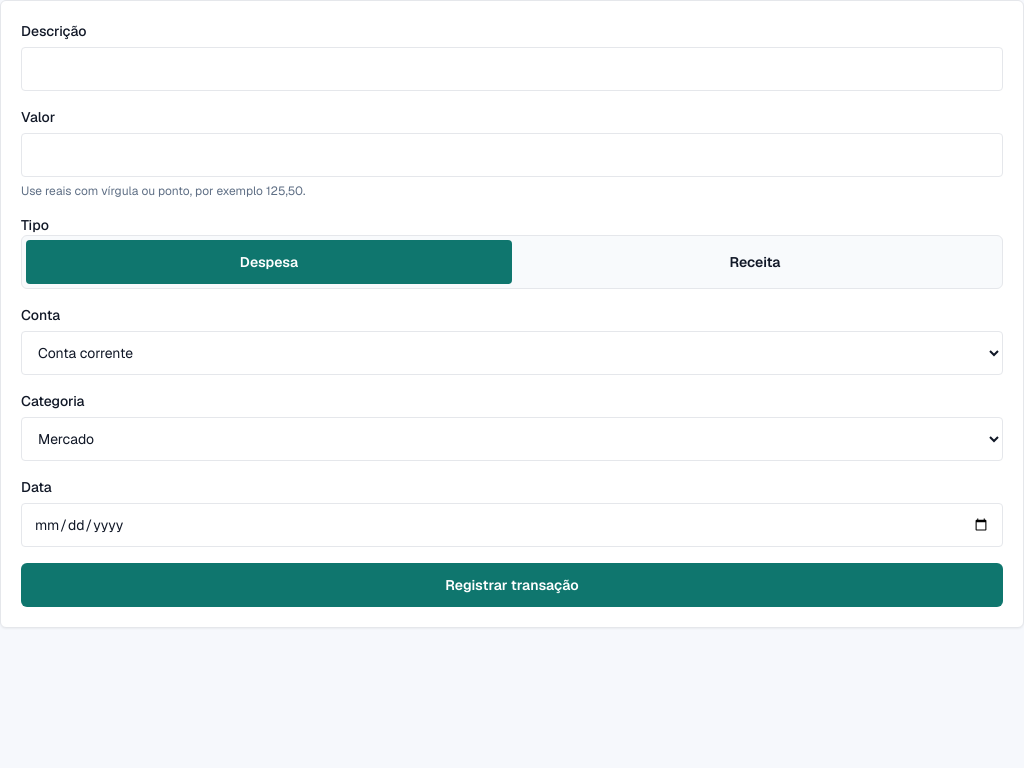
it: TransactionForm › shows an error state when creation fails
The image size is (1024, 768).
Type "Mercado" into the field labelled "Descrição" at (512, 69), box [21,47,1003,91]
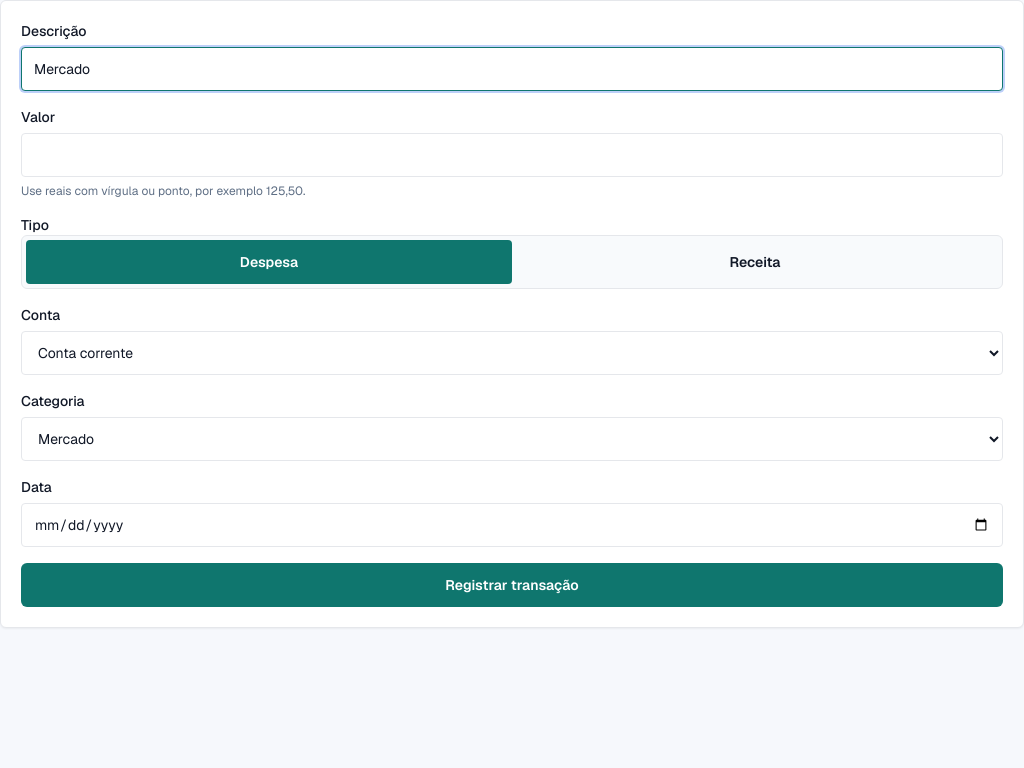
Type "125,50" into the field labelled "Valor" at (512, 155), box [21,133,1003,177]
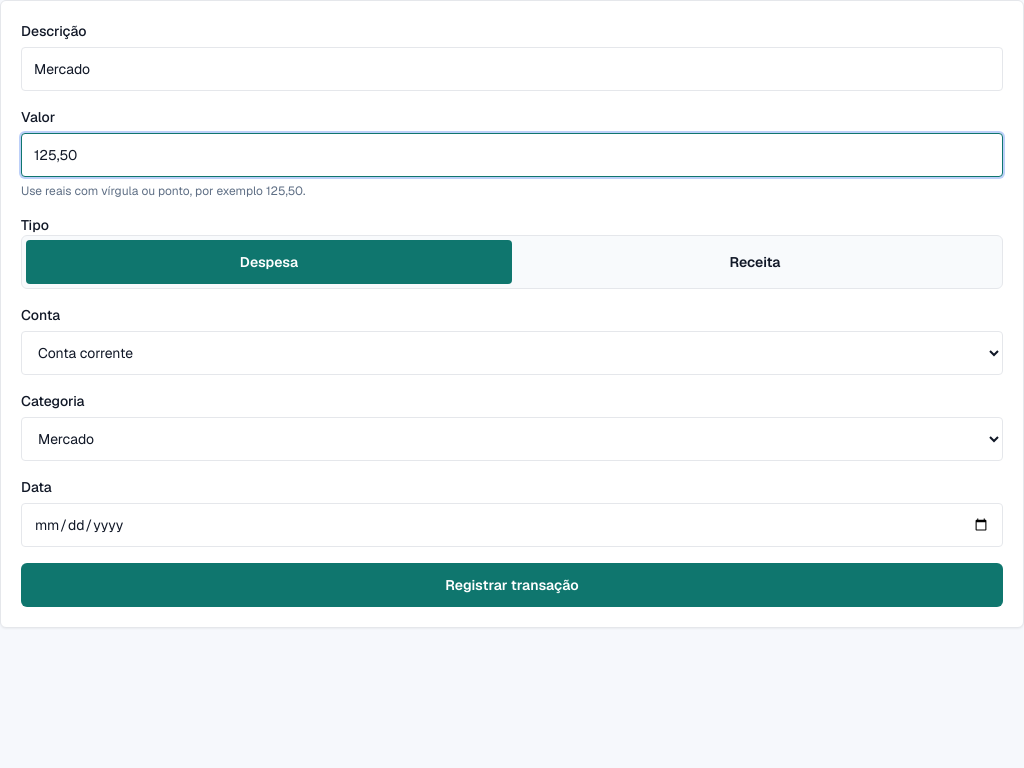
Type "2026-07-08" into the date field labelled "Data" at (512, 525), box [21,503,1003,547]
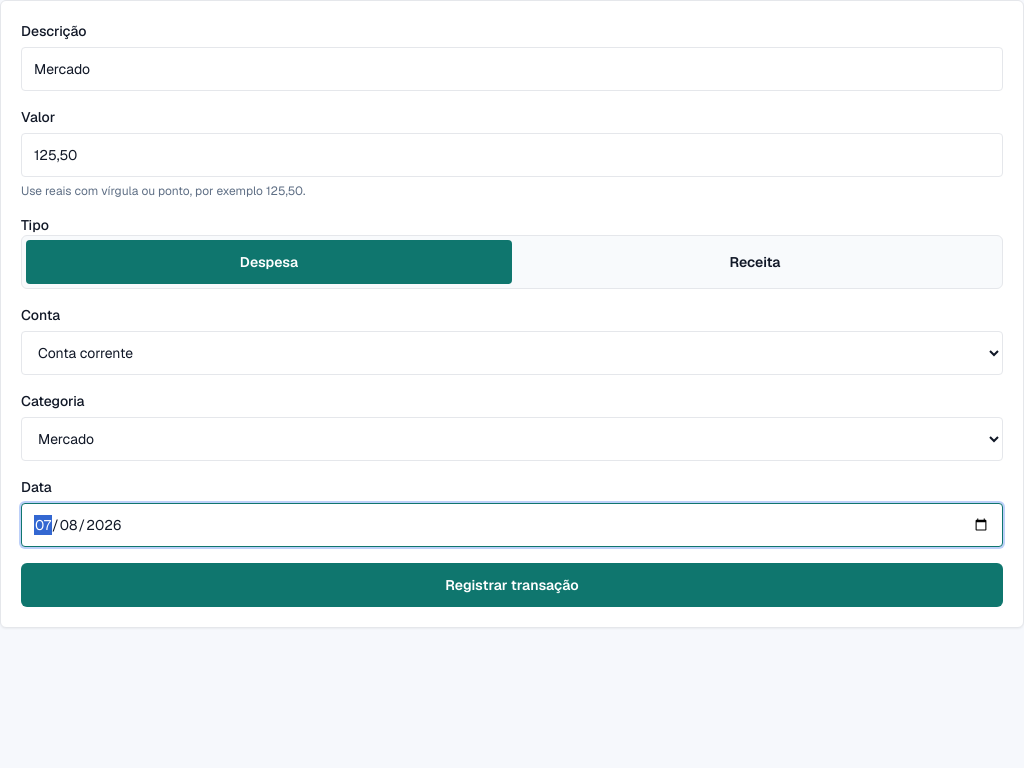
Click the button "Registrar transação" at (512, 585), box [21,563,1003,607]
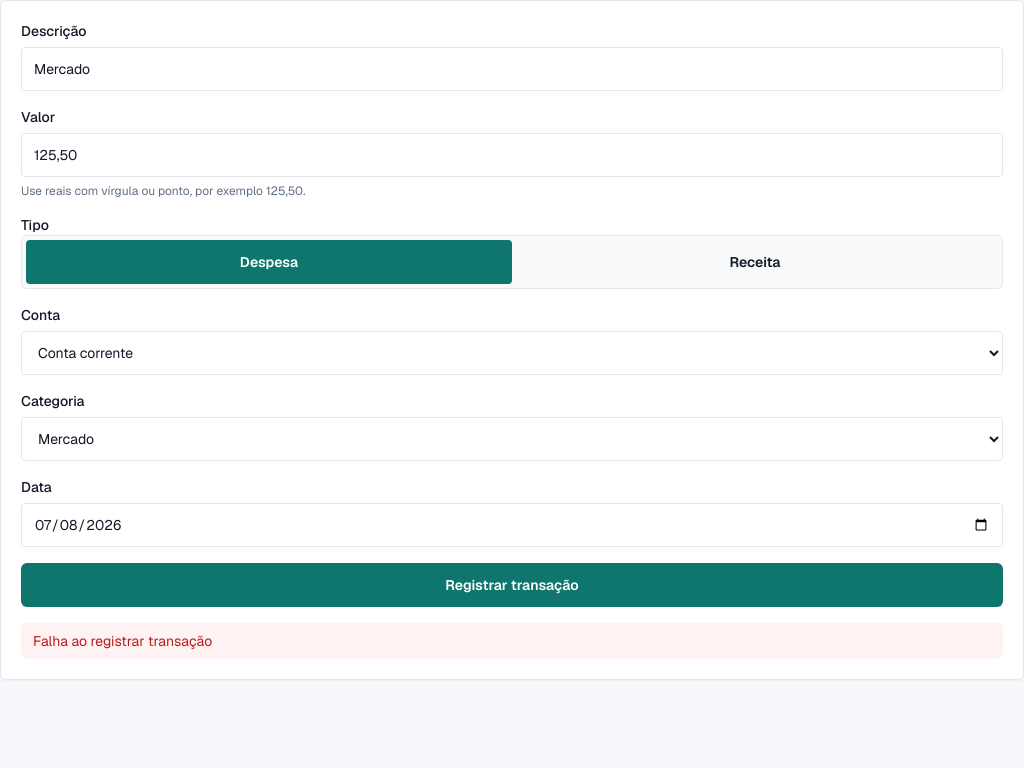
Expected: the text "Falha ao registrar transação" is shown, [21,623,1003,659]
